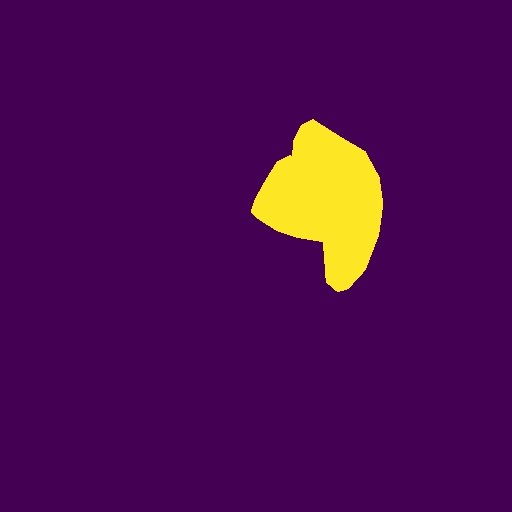Gliomia_tumour: (251, 119, 383, 292)
